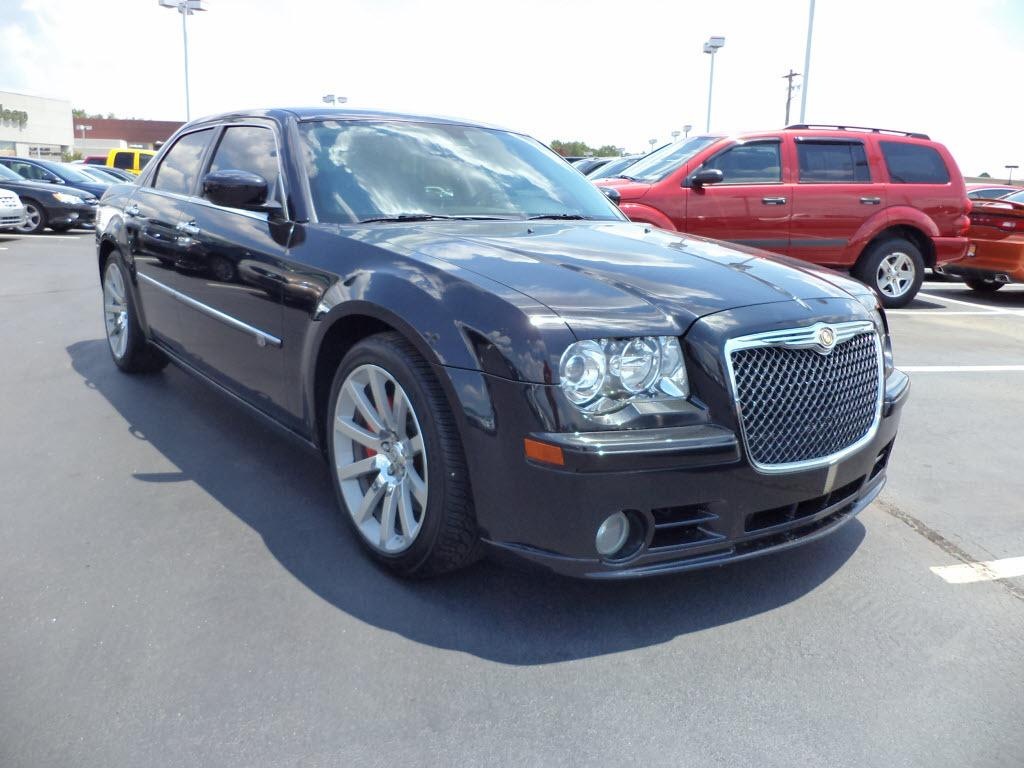Chrysler: (724, 309, 886, 361)
